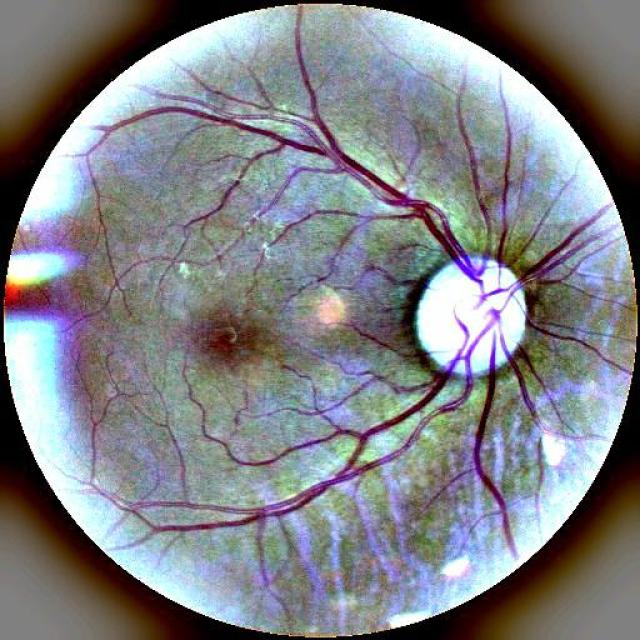Macula: (208, 328, 236, 351)
Optic Disk: (414, 256, 526, 378)
